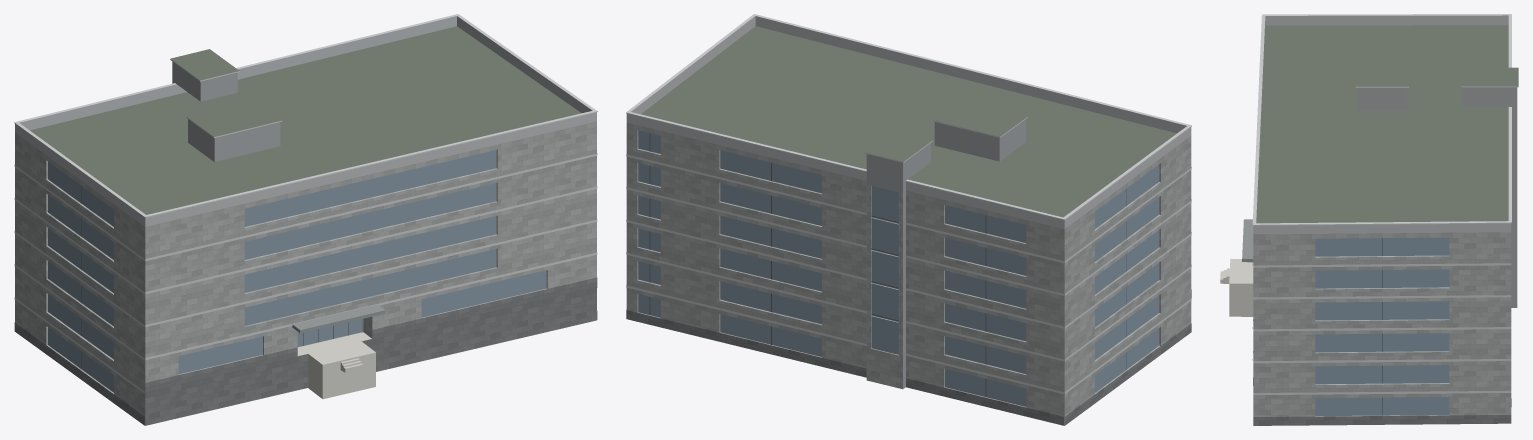
3 renders of one model, left to right at view 1: azimuth 30°, elevation 25°; view 2: azimuth 150°, elevation 25°; view 3: azimuth 270°, elevation 25°, orthographic. The views are drawn at different scales.
Visible parts, largest first — view 1: b34__wall, b34__roof, b34__glass, b34__base, b34__parapet, b34__trim, b34__entranceStair, b34__wall2, b34__canopy; view 2: b34__wall, b34__roof, b34__glass, b34__trim, b34__parapet, b34__base, b34__wall2, b34__frame; view 3: b34__roof, b34__wall, b34__glass, b34__trim, b34__parapet, b34__wall2, b34__base, b34__entranceStair, b34__canopy.
Boxes of the visible parts, x1=… form: b34__wall: x1=15, y1=121, x2=596, y2=425; b34__roof: x1=30, y1=26, x2=596, y2=425; b34__glass: x1=48, y1=150, x2=546, y2=392; b34__base: x1=14, y1=277, x2=597, y2=425; b34__parapet: x1=15, y1=16, x2=596, y2=226; b34__trim: x1=14, y1=14, x2=597, y2=393; b34__entranceStair: x1=297, y1=332, x2=375, y2=399; b34__wall2: x1=172, y1=61, x2=280, y2=161; b34__canopy: x1=292, y1=304, x2=385, y2=333; b34__wall: x1=626, y1=122, x2=1191, y2=425; b34__roof: x1=641, y1=26, x2=1176, y2=217; b34__glass: x1=638, y1=130, x2=1159, y2=406; b34__trim: x1=626, y1=14, x2=1191, y2=393; b34__parapet: x1=626, y1=16, x2=1191, y2=229; b34__base: x1=626, y1=289, x2=1191, y2=425; b34__wall2: x1=866, y1=119, x2=1025, y2=388; b34__frame: x1=649, y1=133, x2=1126, y2=396; b34__roof: x1=1256, y1=25, x2=1518, y2=425; b34__wall: x1=1253, y1=232, x2=1511, y2=416; b34__glass: x1=1315, y1=237, x2=1449, y2=415; b34__trim: x1=1252, y1=14, x2=1518, y2=395; b34__parapet: x1=1253, y1=15, x2=1511, y2=234; b34__wall2: x1=1357, y1=87, x2=1517, y2=307; b34__base: x1=1253, y1=377, x2=1511, y2=425; b34__entranceStair: x1=1220, y1=258, x2=1253, y2=316; b34__canopy: x1=1242, y1=219, x2=1253, y2=262.
Size of the model in its own units: 51.05 by 25.17 by 30.54.
Materials: 11 (2 with a texture image).
